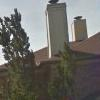Chimney: (42, 1, 90, 59)
